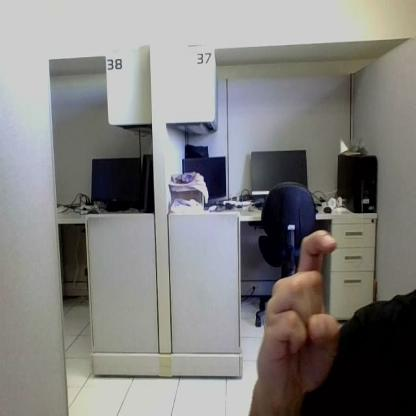X: (257, 229, 338, 402)
